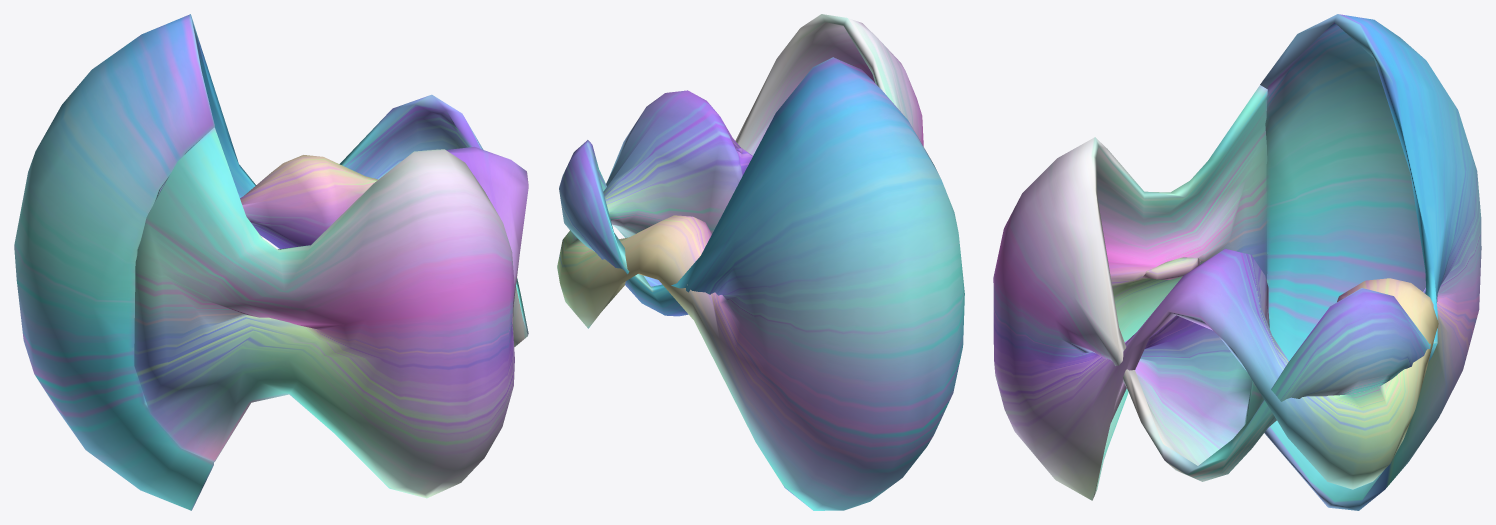
Rendered from randomshape9.glb.
The picture shows the model from 3 angles, left to right: view 1: azimuth 30°, elevation 25°; view 2: azimuth 150°, elevation 25°; view 3: azimuth 270°, elevation 25°; orthographic projection. The views are drawn at different scales.
Parts seen in each view (by area): view 1: SuperShapesMesh.009; view 2: SuperShapesMesh.009; view 3: SuperShapesMesh.009.
Part boxes in pixels (box(x1,y1,x2,y2)): SuperShapesMesh.009: box(14, 14, 528, 510); SuperShapesMesh.009: box(557, 14, 964, 510); SuperShapesMesh.009: box(993, 14, 1481, 510).
Bounding box in the file's own units: 5.36 × 5.81 × 5.18.
1 material, 1 textured.
